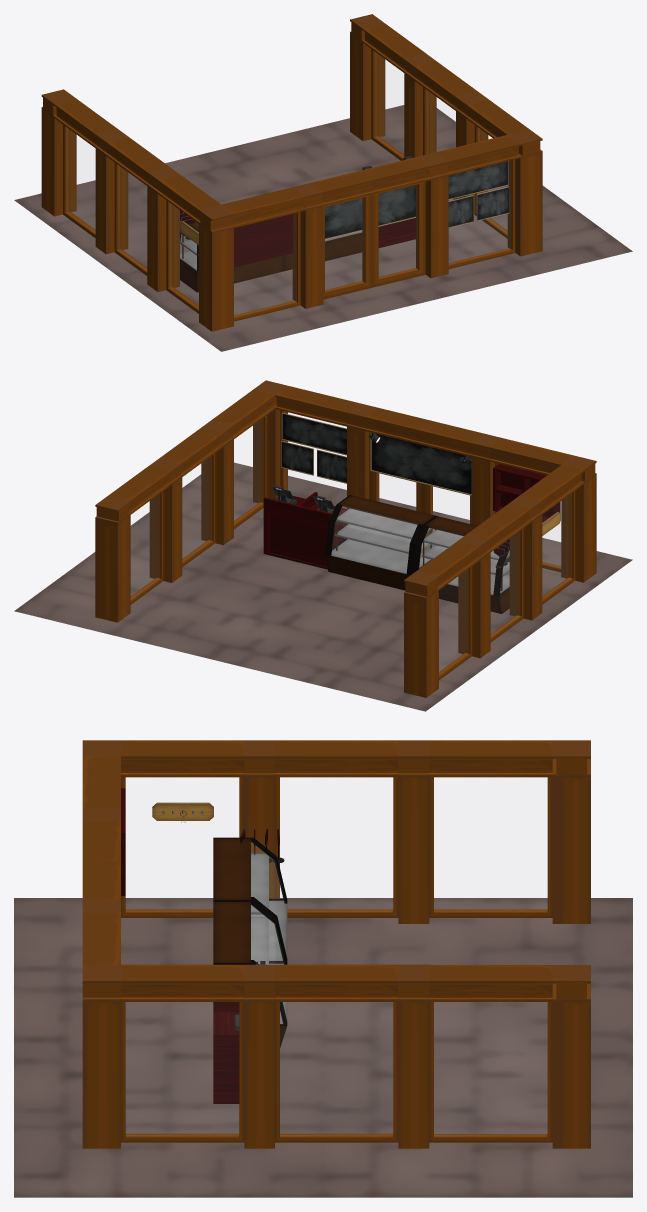
Rendered from mainshop.glb.
The picture shows the model from 3 angles, top to bottom: view 1: azimuth 30°, elevation 25°; view 2: azimuth 150°, elevation 25°; view 3: azimuth 270°, elevation 25°; orthographic projection. The views are drawn at different scales.
Visible parts, largest first — view 1: MOD_Ground, MOD_GlassWallPillar9, MOD_GlassWallPillar8, MOD_GlassWallPillar, MOD_GlassWallPillar3, MOD_GlassWallPillar11, MOD_GlassWallPillar4, MOD_GlassWallPillar5, MOD_GlassWallPillar10, MOD_BlackBoard, MOD_GlassWallPillar6, MOD_DoorFrame_MAT_GlassWall_0.002 (+28 smaller); view 2: MOD_Ground, MOD_FoodGlassShowcase, MOD_GlassWallPillar, MOD_GlassWallPillar3, MOD_BlackBoard, MOD_GlassWallPillar9, MOD_GlassWallPillar6, MOD_GlassWallPillar5, MOD_GlassWallPillar7, MOD_GlassWallPillar4, MOD_BarShelfBack1_MAT_BarShelf_0.001, MOD_FoodGlassShowcase_MAT_FoodGlassShowcase_0.001 (+27 smaller); view 3: MOD_Ground, MOD_GlassWallPillar8, MOD_GlassWallPillar, MOD_GlassWallPillar3, MOD_GlassWallPillar6, MOD_GlassWallPillar4, MOD_GlassWallPillar7, MOD_GlassWallTop_MAT_GlassWall_0.003, MOD_GlassWallTop_MAT_GlassWall_0.004, MOD_GlassWallTop_MAT_GlassWall_0.005, MOD_GlassWallTop_MAT_GlassWall_0.006, MOD_GlassWallTop_MAT_GlassWall_0.007 (+18 smaller).
Boxes of the visible parts, x1,y1,x2,y2 form: MOD_Ground: (14,105,632,351); MOD_GlassWallPillar9: (199,204,233,331); MOD_GlassWallPillar8: (507,129,542,256); MOD_GlassWallPillar: (350,14,385,140); MOD_GlassWallPillar3: (41,89,76,216); MOD_GlassWallPillar11: (292,183,323,308); MOD_GlassWallPillar4: (95,129,128,254); MOD_GlassWallPillar5: (147,167,179,291); MOD_GlassWallPillar10: (418,152,448,278); MOD_BlackBoard: (325,185,415,239); MOD_GlassWallPillar6: (404,53,436,157); MOD_DoorFrame_MAT_GlassWall_0.002: (372,181,425,287); MOD_Ground: (14,462,632,711); MOD_FoodGlassShowcase: (325,495,436,590); MOD_GlassWallPillar: (95,495,130,622); MOD_GlassWallPillar3: (404,571,438,697); MOD_BlackBoard: (370,432,471,495); MOD_GlassWallPillar9: (561,455,596,582); MOD_GlassWallPillar6: (149,458,182,582); MOD_GlassWallPillar5: (509,495,542,620); MOD_GlassWallPillar7: (201,420,233,545); MOD_GlassWallPillar4: (458,533,490,658); MOD_BarShelfBack1_MAT_BarShelf_0.001: (269,514,327,566); MOD_FoodGlassShowcase_MAT_FoodGlassShowcase_0.001: (412,516,509,613); MOD_Ground: (14,898,632,1197); MOD_GlassWallPillar8: (82,964,120,1148); MOD_GlassWallPillar: (552,965,590,1148); MOD_GlassWallPillar3: (552,740,590,923); MOD_GlassWallPillar6: (398,964,429,1148); MOD_GlassWallPillar4: (398,740,429,923); MOD_GlassWallPillar7: (244,964,274,1148); MOD_GlassWallTop_MAT_GlassWall_0.003: (429,740,552,777); MOD_GlassWallTop_MAT_GlassWall_0.004: (275,740,398,777); MOD_GlassWallTop_MAT_GlassWall_0.005: (275,964,398,1001); MOD_GlassWallTop_MAT_GlassWall_0.006: (121,964,244,1001); MOD_GlassWallTop_MAT_GlassWall_0.007: (121,740,244,777).
Size of the model in its own units: 1150 by 300 by 1004.
18 materials, 15 textured.
